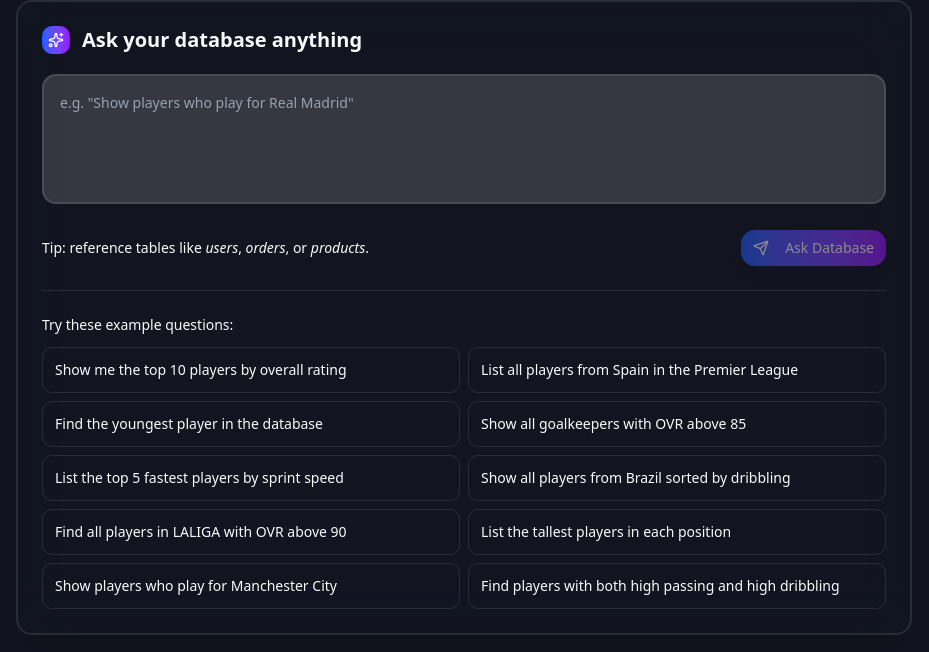
Test: QueryInput › Button State › enables submit button when input has text
Type "Show players" into the text box at (464, 139), box [42, 74, 886, 204]
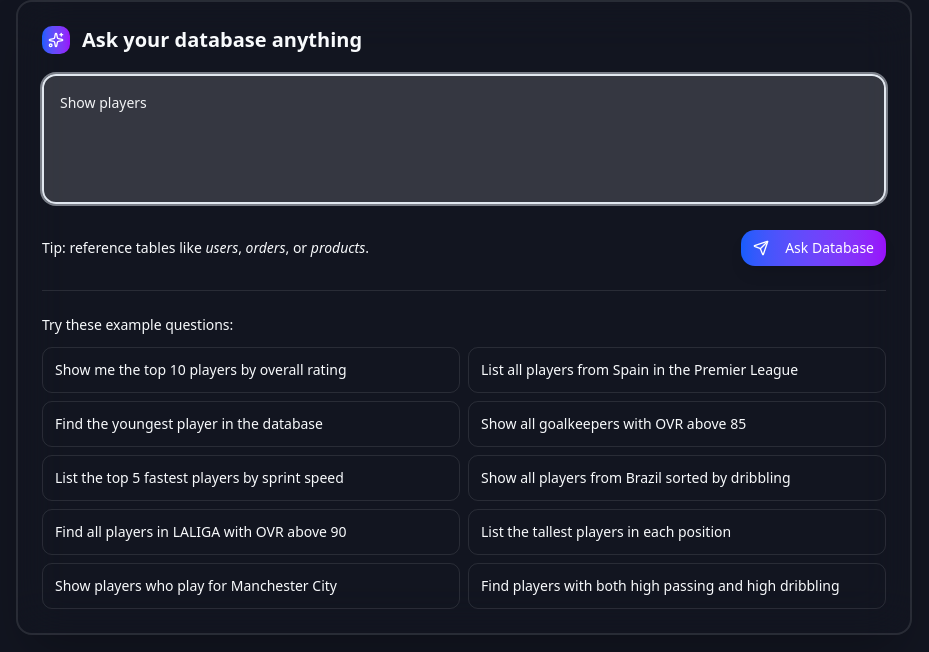
Now the submit button is enabled, box [741, 230, 886, 266]
